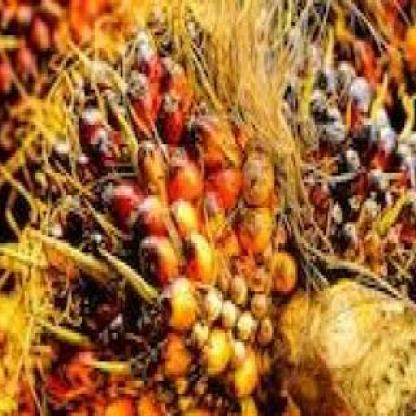Ripe: (93, 49, 416, 415), (0, 0, 151, 159)
